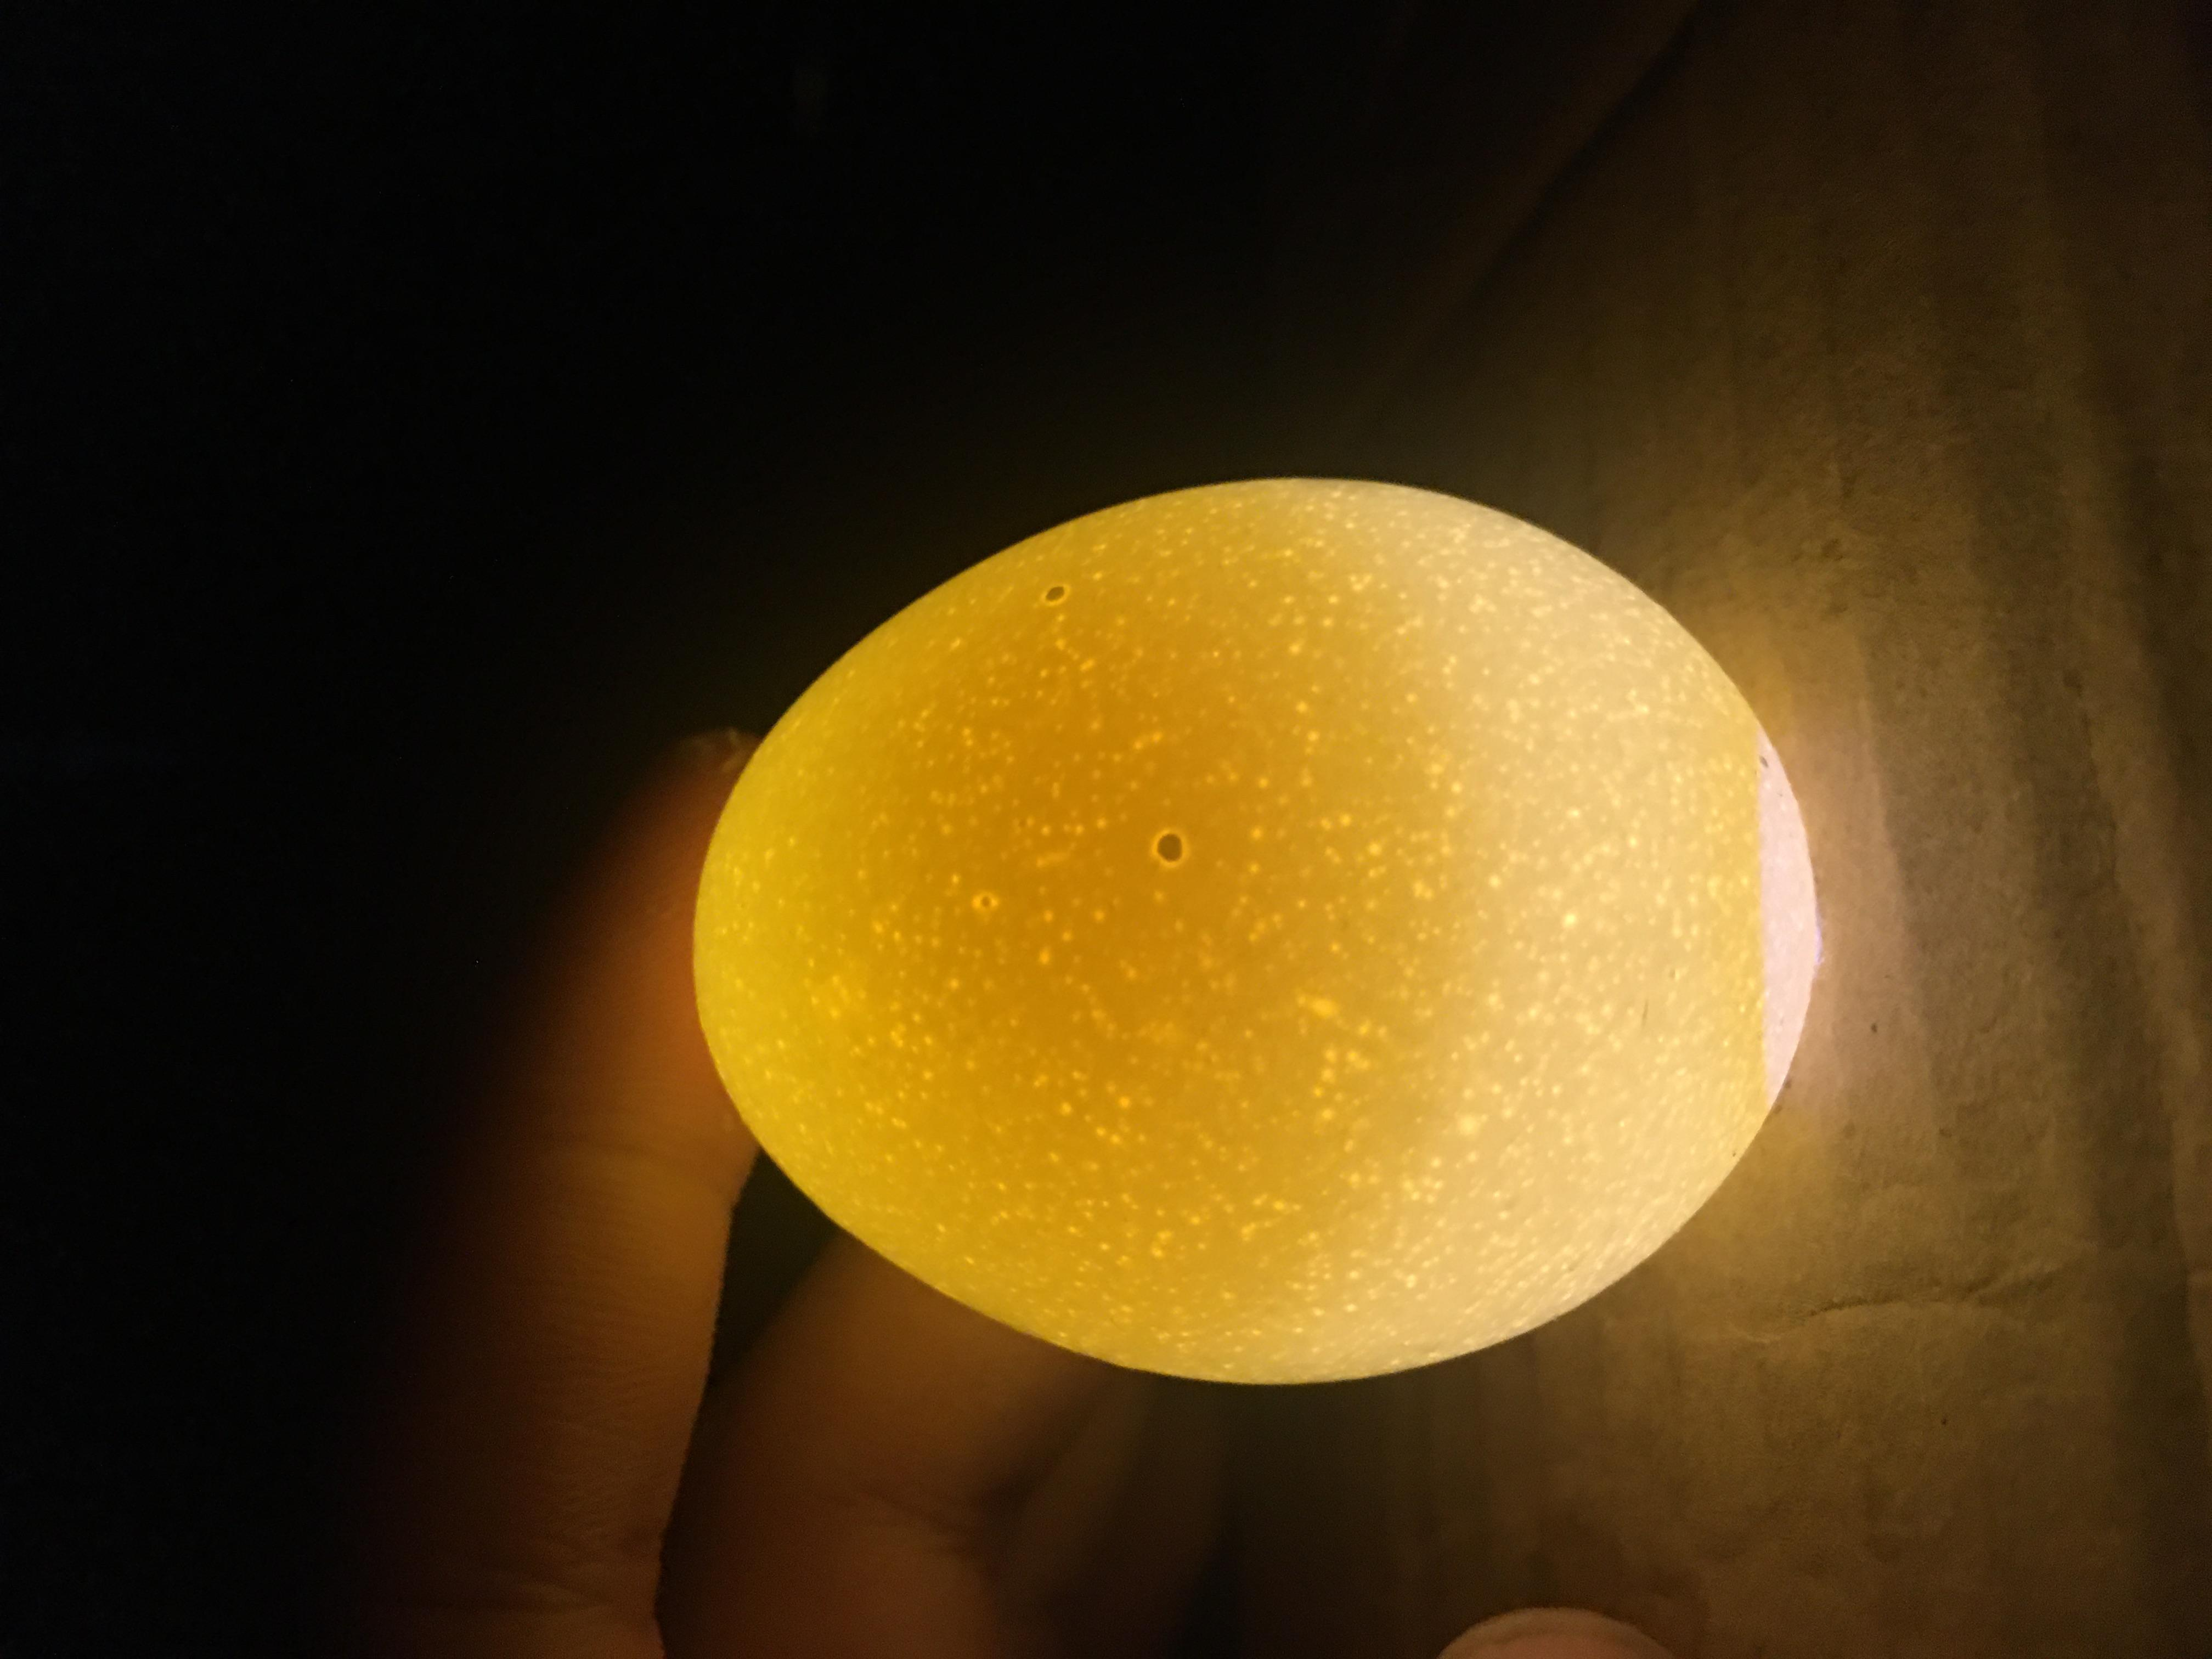A - Good: (362, 509, 1590, 1399)
